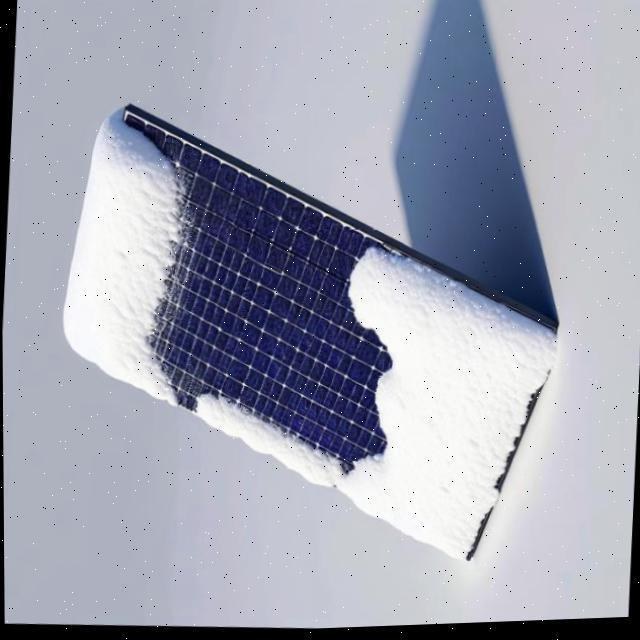Anomaly Solar Panel: (5, 100, 585, 564)
Snow: (2, 102, 580, 566)
